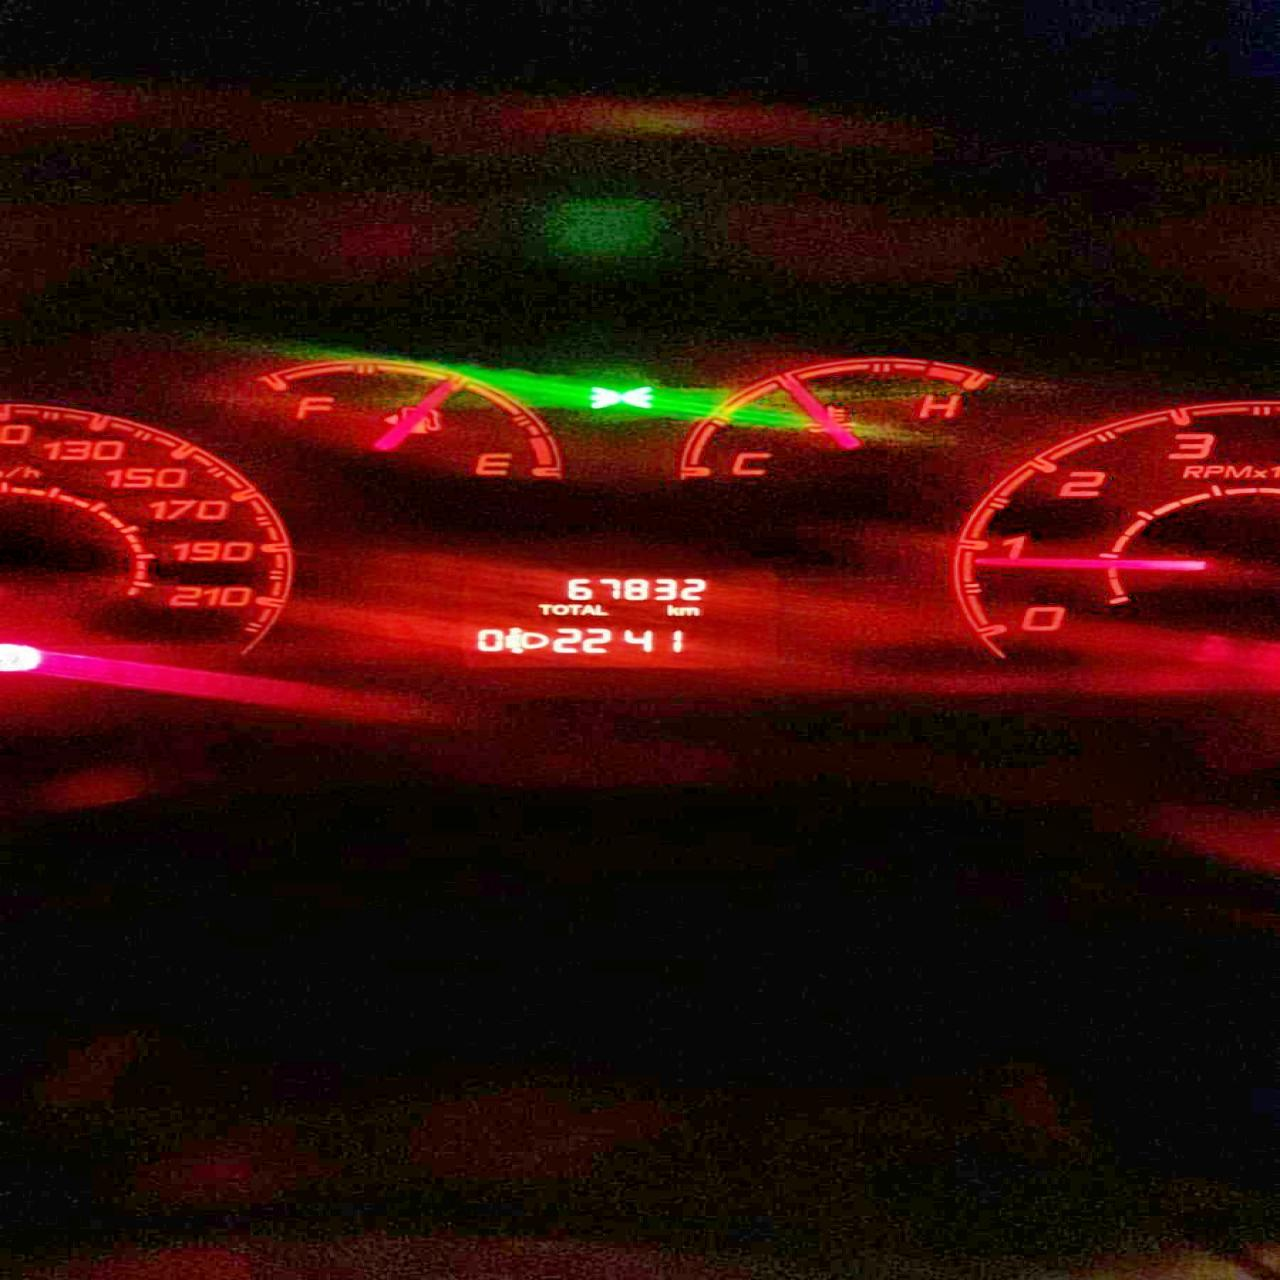0: (474, 626, 504, 653)
1: (661, 624, 689, 659)
2: (580, 625, 613, 656), (550, 625, 581, 656), (681, 576, 707, 601)
3: (652, 576, 675, 602)
4: (620, 627, 654, 653)
6: (565, 576, 593, 602)
7: (595, 576, 622, 598)
8: (622, 574, 647, 601)
X: (536, 601, 552, 617), (679, 605, 699, 617), (594, 602, 611, 617), (552, 602, 567, 617), (666, 604, 679, 618), (580, 604, 594, 617), (567, 602, 580, 617)
odometer: (451, 558, 788, 672)
